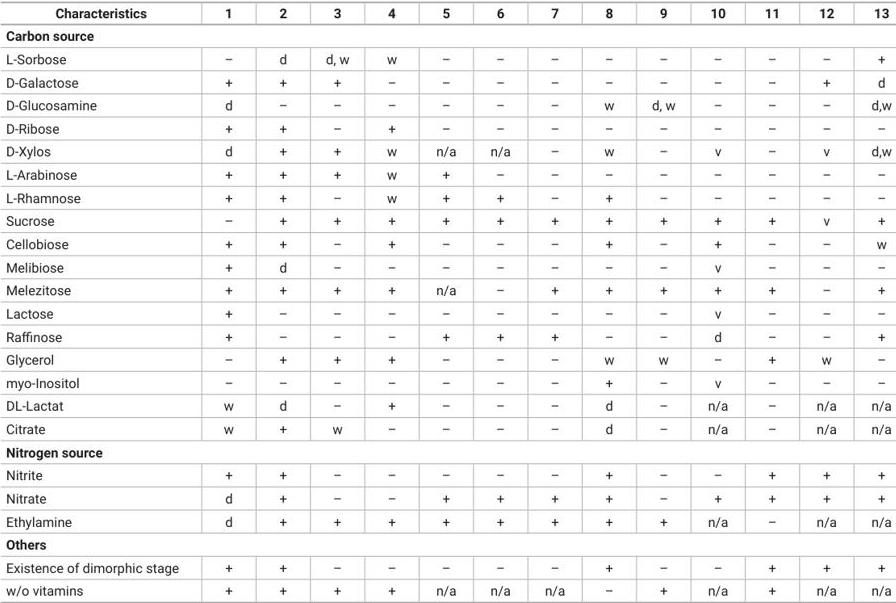table: (5, 4, 891, 598)
table column: (5, 4, 200, 598), (305, 4, 367, 598), (632, 4, 690, 598), (415, 4, 472, 598), (527, 4, 583, 598), (797, 4, 853, 598), (200, 4, 255, 598), (472, 4, 527, 598), (690, 4, 745, 598), (745, 4, 797, 598), (255, 4, 305, 598), (583, 4, 632, 598), (367, 4, 415, 598), (853, 4, 891, 598)
table column header: (5, 4, 891, 24)
table projected row header: (5, 24, 891, 47), (5, 440, 891, 463), (5, 532, 891, 555)
table row: (5, 185, 891, 209), (5, 370, 891, 394), (5, 555, 891, 579), (5, 24, 891, 47), (5, 47, 891, 70), (5, 70, 891, 93), (5, 93, 891, 116), (5, 116, 891, 139), (5, 139, 891, 162), (5, 162, 891, 185), (5, 209, 891, 232), (5, 232, 891, 255), (5, 255, 891, 278), (5, 278, 891, 301), (5, 301, 891, 324), (5, 324, 891, 347), (5, 347, 891, 370), (5, 394, 891, 417), (5, 417, 891, 440), (5, 440, 891, 463), (5, 463, 891, 486), (5, 486, 891, 509), (5, 509, 891, 532), (5, 532, 891, 555), (5, 4, 891, 24), (5, 579, 891, 598)
